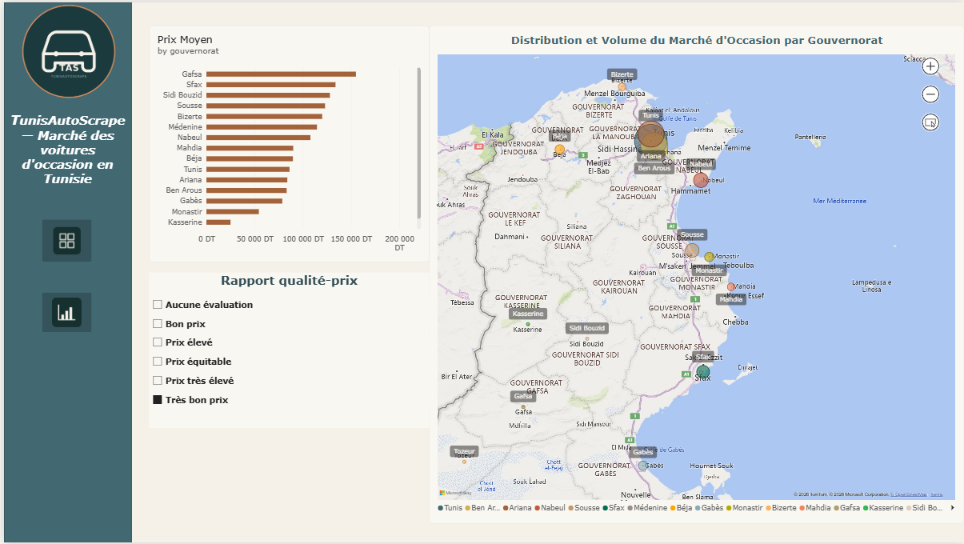

What the dashboard file says about the page in this screenshot:
{"tool":"powerbi","page":{"name":"Page 2","canvas":[1920,1080],"ordinal":1},"visuals":[{"type":"shape","box":[0,0,255.8,1080.8],"z":4},{"type":"image","box":[1.9,0,255.8,196.2],"z":5},{"type":"textbox","box":[0,217.5,255,185],"z":6},{"type":"clusteredBarChart","fields":{"Category":["voitures.gouvernorat"],"Y":["voitures.Prix Moyen"]},"box":[289.1,45.7,560.9,473.9],"z":7},{"type":"map","title":"Distribution et Volume du Marché d''Occasion par Gouvernorat","fields":{"Category":["voitures.gouvernorat"],"Series":["voitures.gouvernorat"],"Size":["voitures.Total Voitures"]},"box":[850,46.7,1070,996.7],"z":8},{"type":"slicer","title":"Rapport qualité-prix","fields":{"Values":["voitures.cote"]},"box":[289.1,539.1,560.9,310.9],"z":9},{"type":"actionButton","box":[76,434.3,99.5,85.1],"z":10},{"type":"actionButton","box":[76,579.1,99.5,79.6],"z":11}]}

Visuals, with their boxes in screenshot pixels (x1, y1, x2, y2), scaled from the page's 1920x1080 canvas onto the 964x544 screenshot:
shape: box=[0, 0, 128, 543]
image: box=[1, 0, 129, 99]
textbox: box=[0, 110, 128, 203]
clusteredBarChart - voitures.gouvernorat x voitures.Prix Moyen: box=[145, 23, 427, 262]
"Distribution et Volume du Marché d''Occasion par Gouvernorat" map: box=[427, 24, 963, 526]
"Rapport qualité-prix" slicer: box=[145, 272, 427, 428]
actionButton: box=[38, 219, 88, 262]
actionButton: box=[38, 292, 88, 332]
